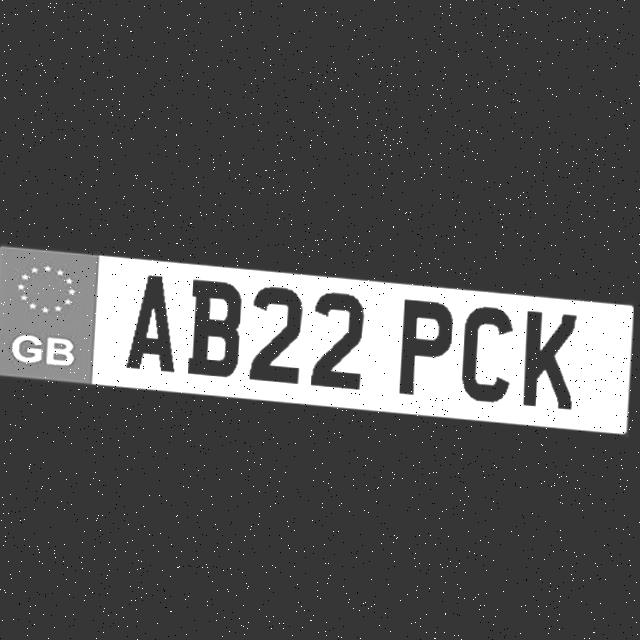license-plates: (0, 245, 634, 431)
